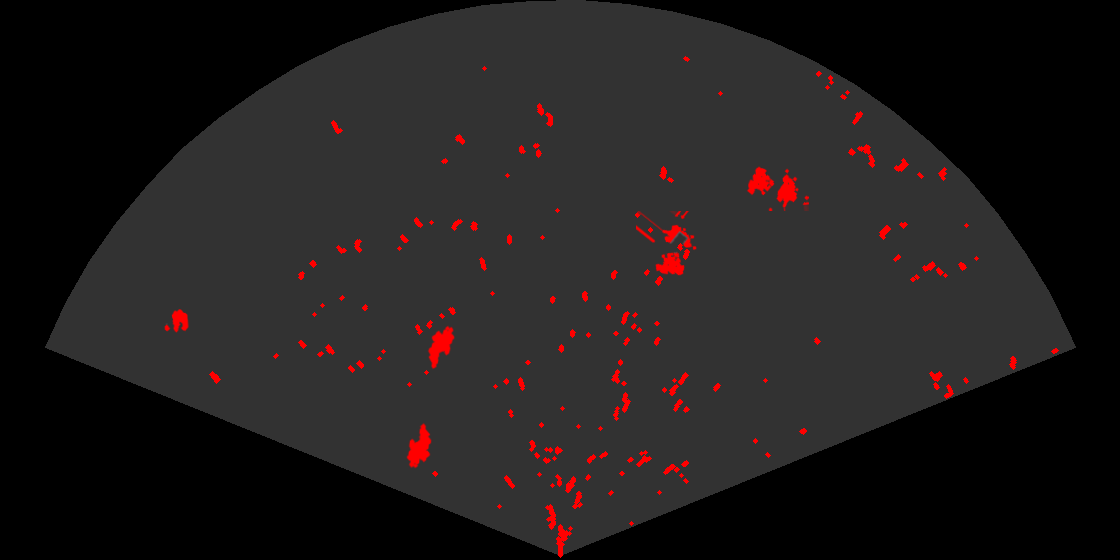AUV: (426, 324, 456, 371), (405, 421, 433, 470)
ball: (163, 308, 190, 334)
cage: (636, 211, 698, 277), (745, 165, 809, 211)
